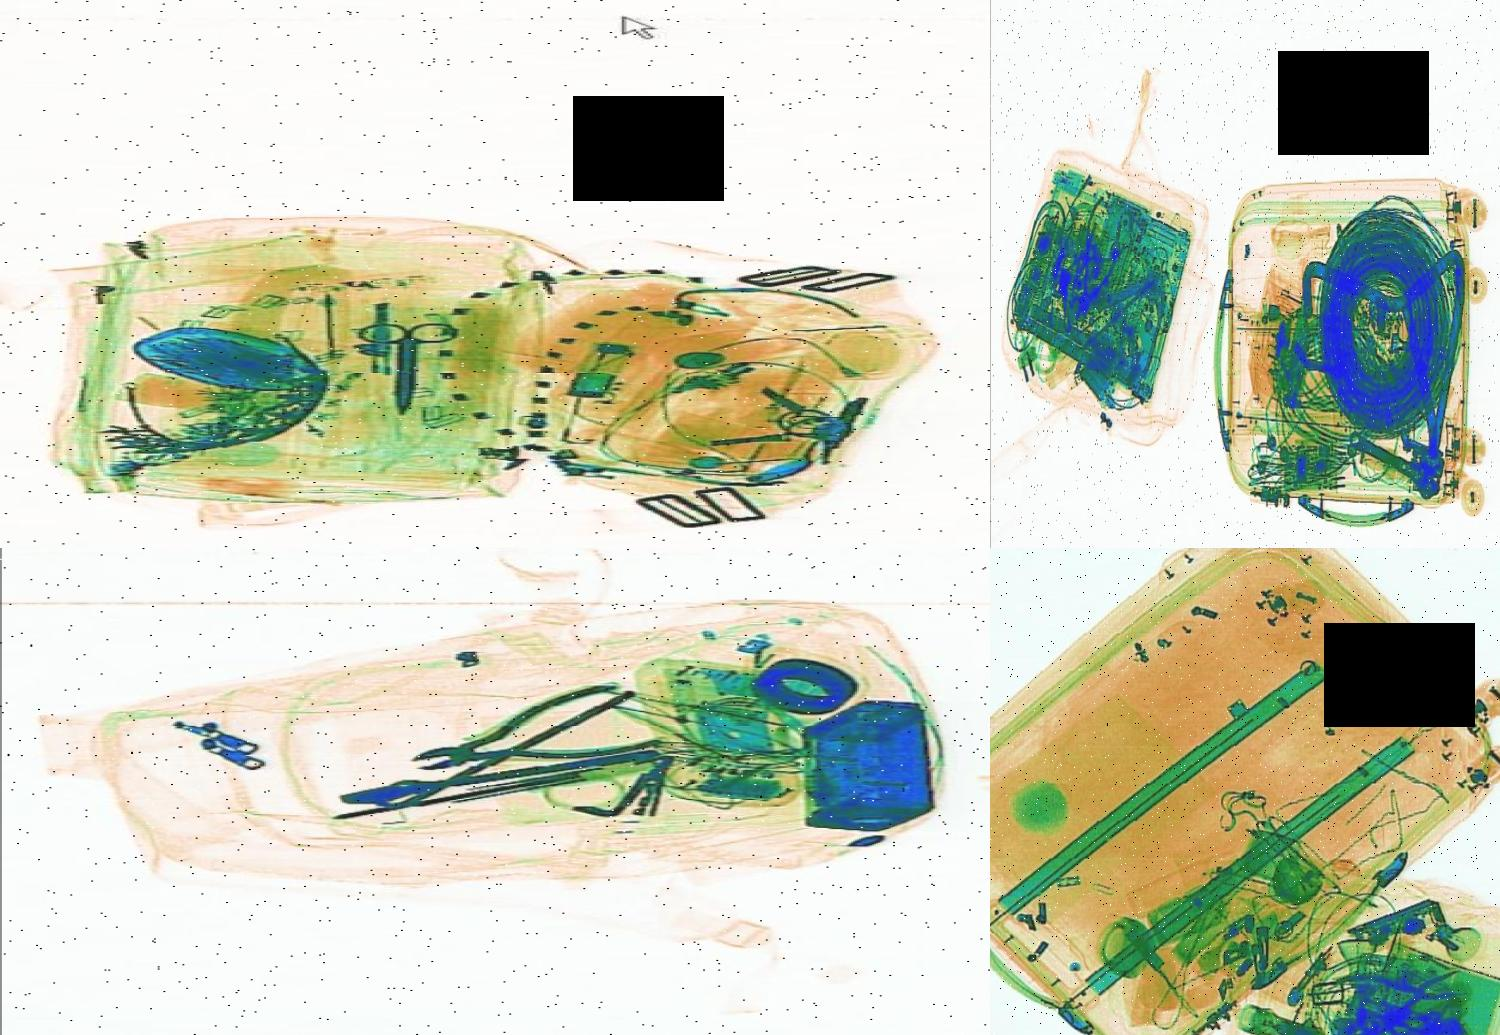Pliers: (374, 679, 682, 796), (1310, 950, 1482, 1035), (1058, 221, 1126, 327)
Scissors: (352, 324, 454, 417)
Wrench: (1339, 416, 1449, 504)
